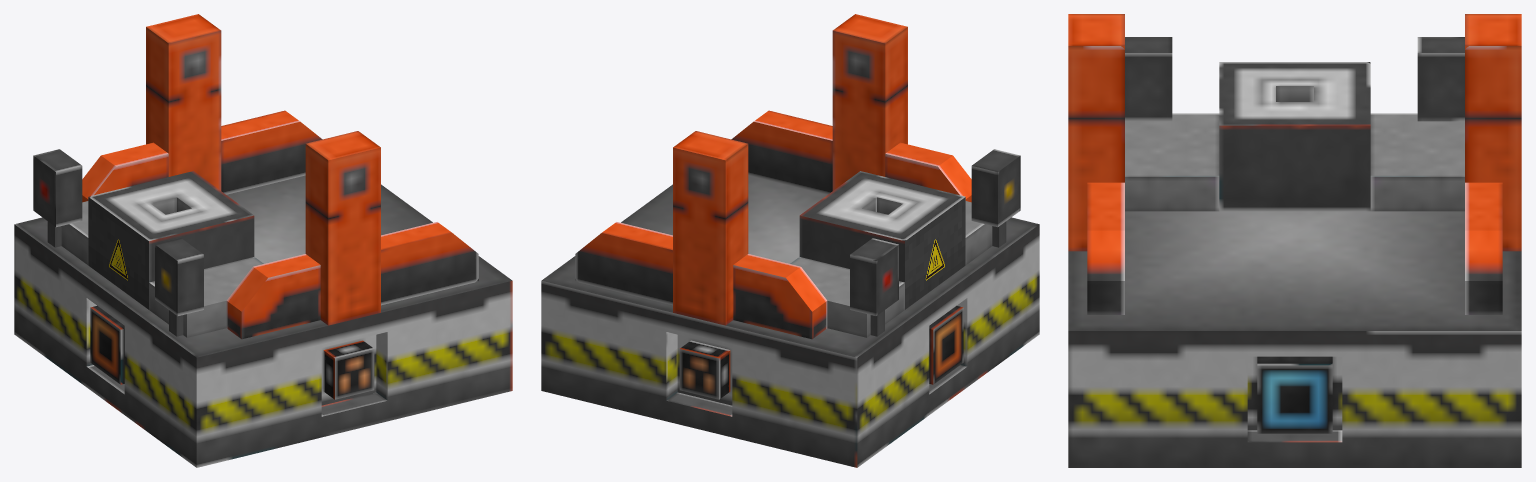
The model's file is cating_machine.obj.
The picture shows the model from 3 angles, left to right: view 1: azimuth 30°, elevation 25°; view 2: azimuth 150°, elevation 25°; view 3: azimuth 270°, elevation 25°; orthographic projection. The views are drawn at different scales.
Parts seen in each view (by area): view 1: cube.base_cube.059, cube.020, cube.050, redstone_立方体, redstone.001_立方体.002; view 2: cube.base_cube.059, cube.020, cube.050, redstone.001_立方体.002, redstone_立方体; view 3: cube.base_cube.059, cube.020, cube.050, redstone_立方体, redstone.001_立方体.002.
Part boxes in pixels (x1,y1,x2,y2): cube.base_cube.059: [14, 175, 512, 467]; cube.020: [61, 14, 478, 339]; cube.050: [88, 171, 254, 309]; redstone_立方体: [33, 149, 82, 247]; redstone.001_立方体.002: [155, 238, 203, 336]; cube.base_cube.059: [541, 175, 1039, 467]; cube.020: [575, 14, 992, 339]; cube.050: [799, 171, 965, 309]; redstone.001_立方体.002: [971, 149, 1020, 247]; redstone_立方体: [850, 238, 898, 336]; cube.base_cube.059: [1068, 211, 1521, 467]; cube.020: [1068, 14, 1521, 314]; cube.050: [1219, 62, 1370, 211]; redstone_立方体: [1417, 37, 1464, 121]; redstone.001_立方体.002: [1125, 37, 1172, 121].
Size of the model in its own units: 3 by 2.5 by 3.
